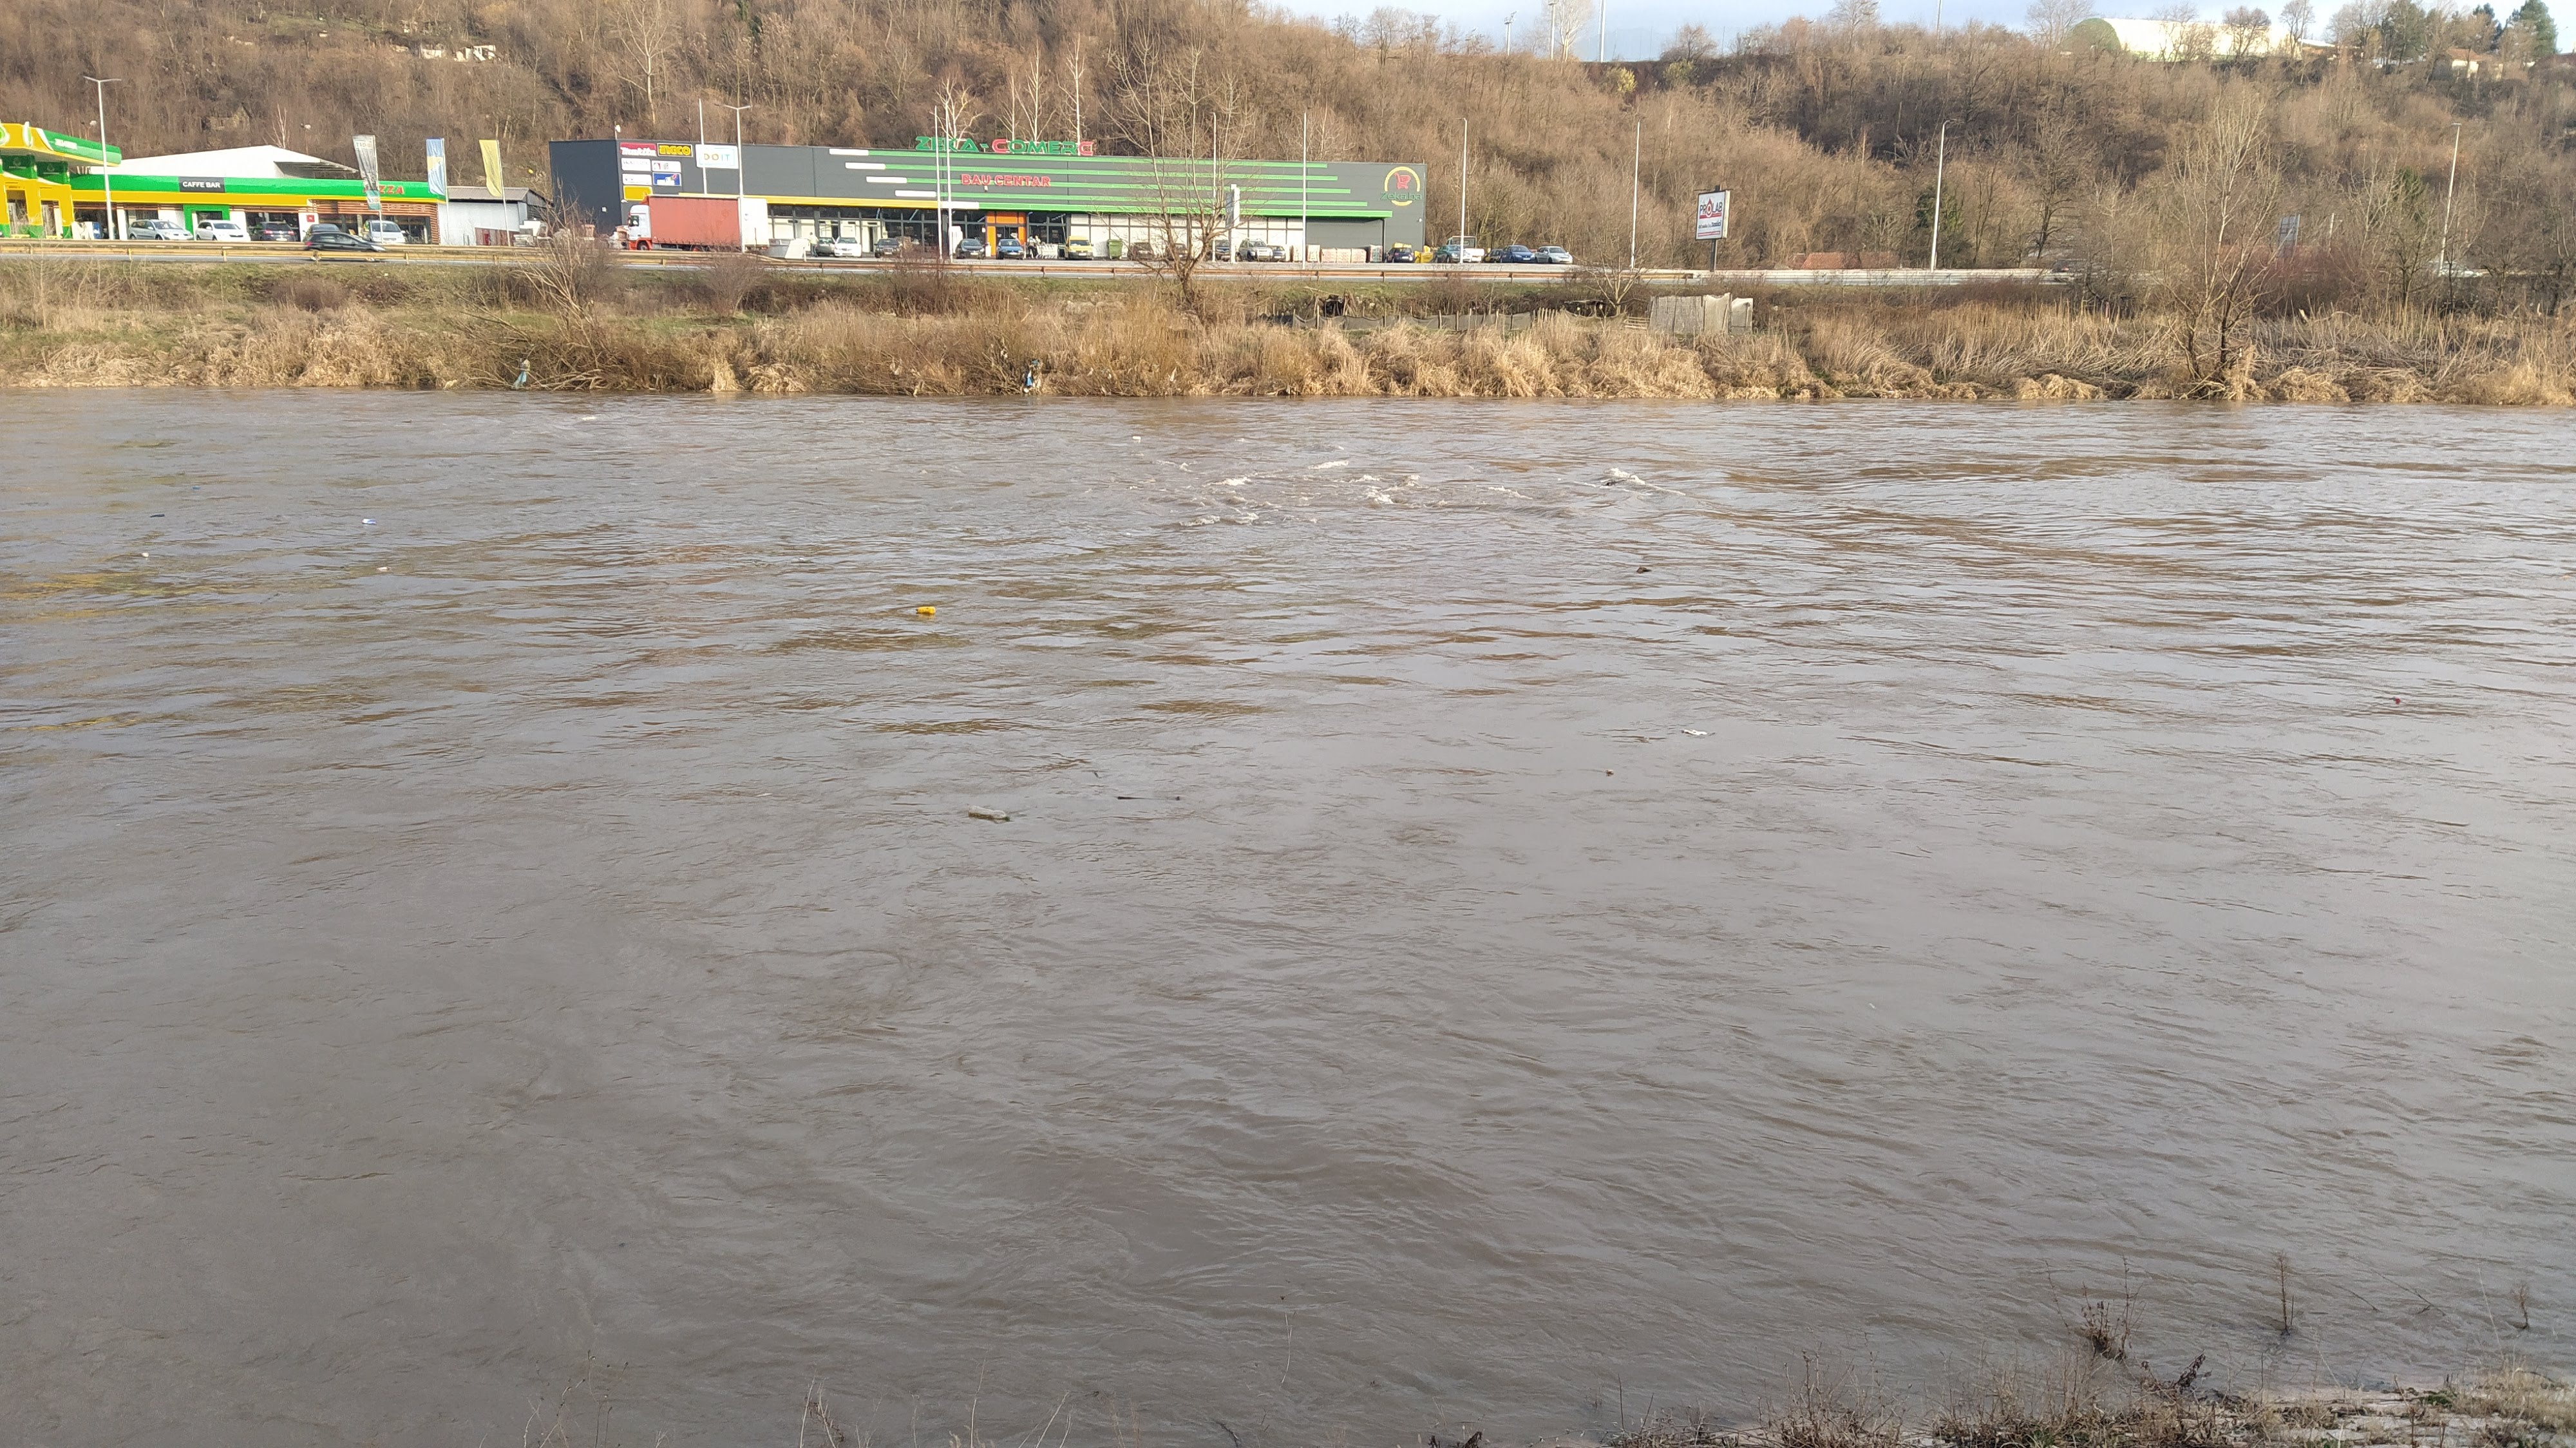Plastic Bottle: (968, 804, 1010, 821), (915, 605, 938, 612), (361, 519, 377, 524), (1637, 566, 1651, 572), (2392, 696, 2403, 703), (149, 513, 163, 517), (377, 566, 389, 570), (191, 487, 200, 490), (1132, 435, 1141, 439), (142, 552, 149, 556)
